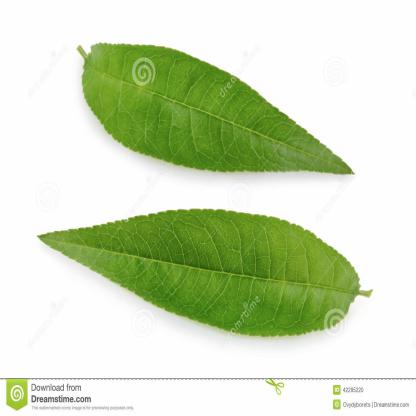peach leaf: (23, 200, 373, 341), (72, 24, 358, 181)
